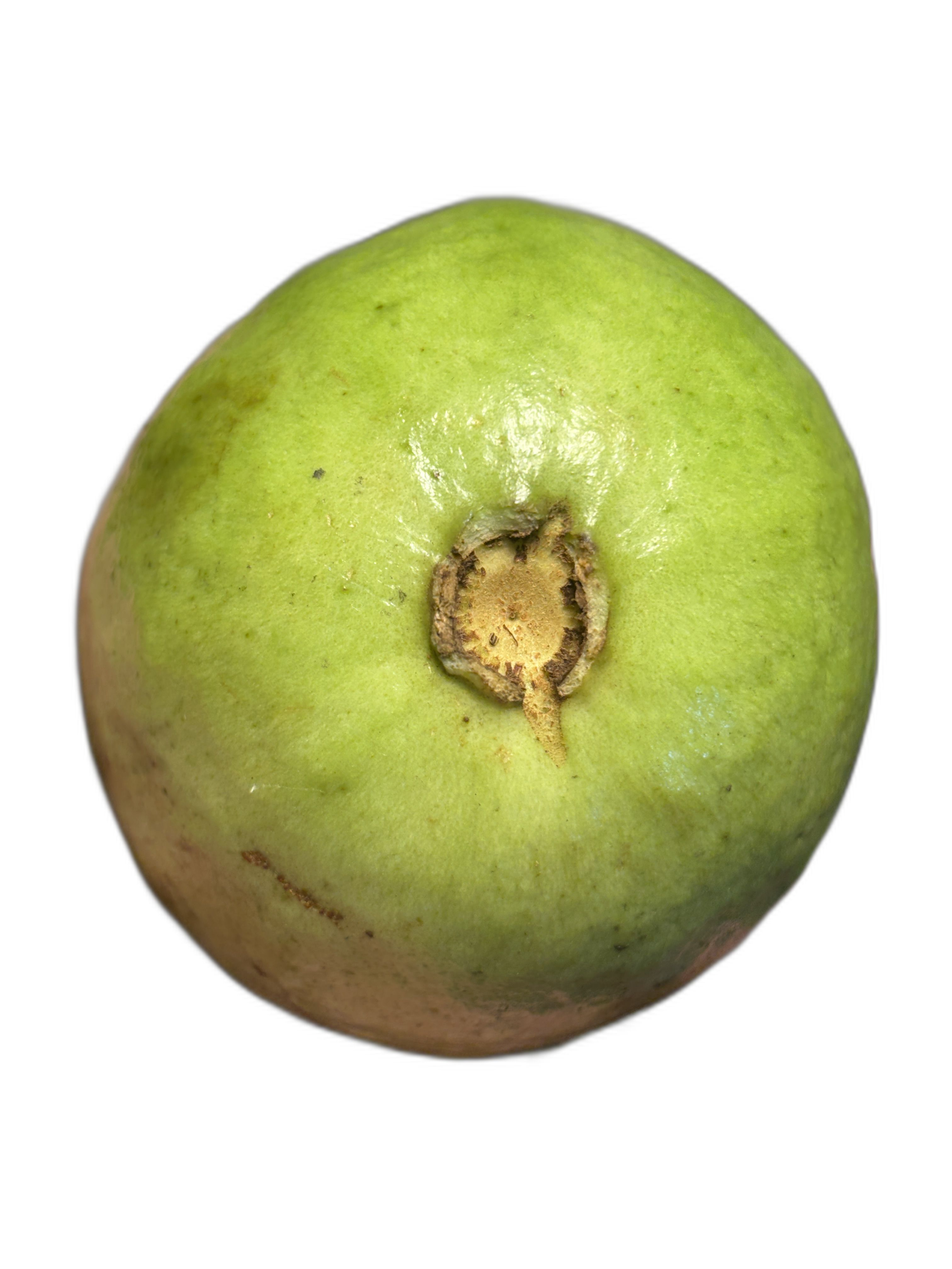guava: (264, 179, 866, 1269)
